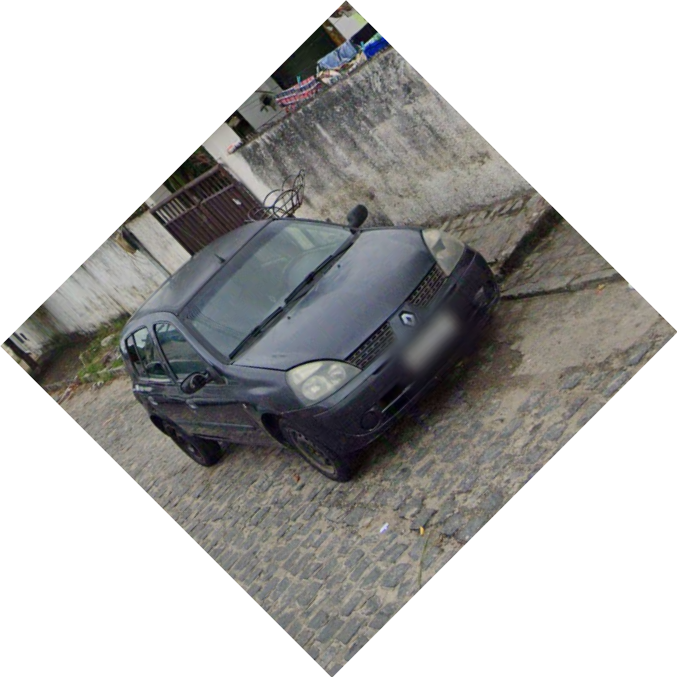car: (117, 204, 504, 487)
